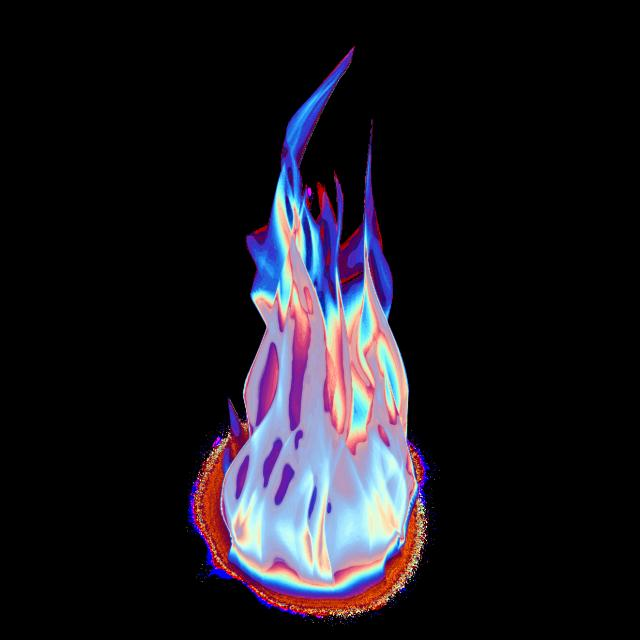fire: (216, 89, 418, 589)
